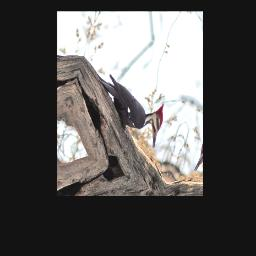Woodpecker: (86, 68, 168, 150)
